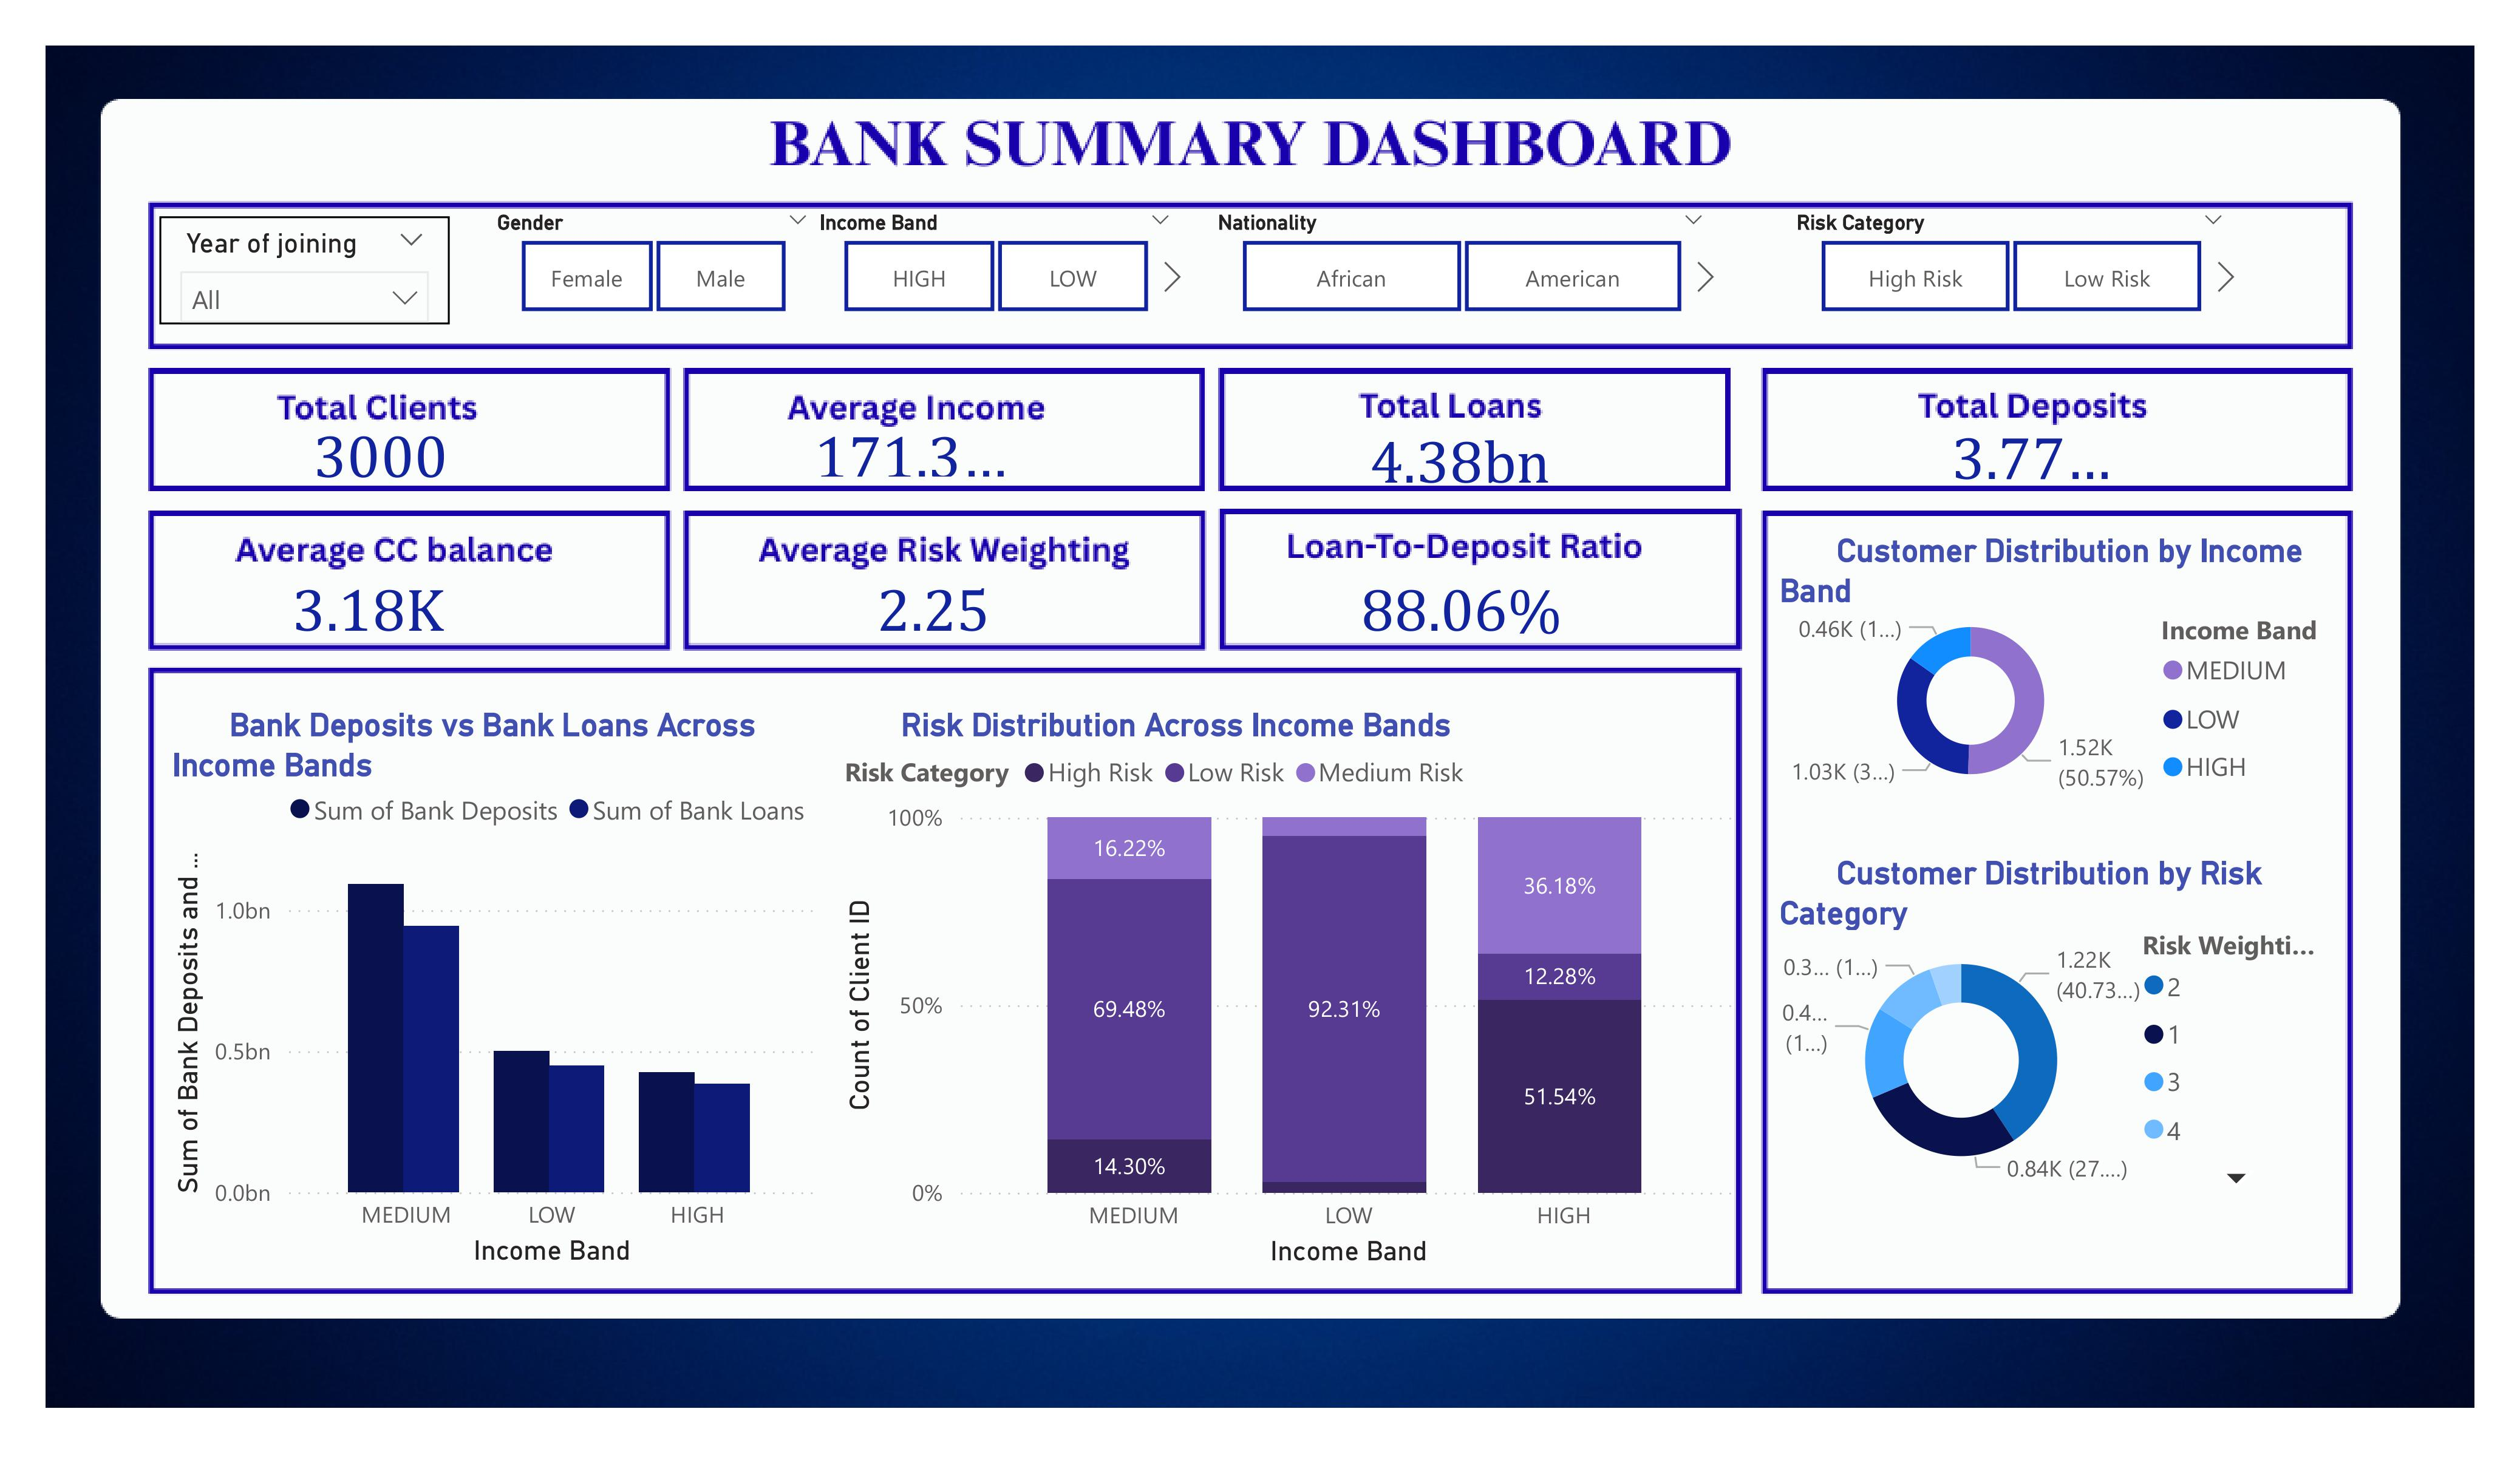

This screenshot's page, from the dashboard's own definition file:
{"tool":"powerbi","page":{"name":"Summary","canvas":[1280,720],"ordinal":3},"visuals":[{"type":"slicer","fields":{"Values":["banking_case customer.Year of joining"]},"box":[60.5,89.6,152.3,57.1],"z":0},{"type":"slicer","fields":{"Values":["banking_case customer.Gender"]},"box":[225.5,81.9,188.4,64.9],"z":1},{"type":"slicer","fields":{"Values":["banking_case customer.Income Band"]},"box":[395.4,81.9,210,64.9],"z":2},{"type":"slicer","fields":{"Values":["banking_case customer.Nationality"]},"box":[605.4,81.9,281.1,64.9],"z":3},{"type":"slicer","fields":{"Values":["banking_case customer.Risk Category"]},"box":[909.7,81.9,250.2,64.9],"z":4},{"type":"card","fields":{"Values":["CountNonNull(banking_case customer.Name)"]},"box":[116.9,196.5,119.4,38.5],"z":5},{"type":"card","fields":{"Values":["banking_case customer.Avg Income"]},"box":[395.5,200.3,120.7,32.1],"z":6},{"type":"card","fields":{"Values":["banking_case customer.Total deposit"]},"box":[993.9,197.8,105.3,37.2],"z":7},{"type":"card","fields":{"Values":["banking_case customer.Total loan"]},"box":[692.1,197.8,106.6,41.1],"z":8},{"type":"card","fields":{"Values":["banking_case customer.Average Risk"]},"box":[414.8,276.1,106.6,41.1],"z":9},{"type":"card","fields":{"Values":["banking_case customer.Average CC Balance"]},"box":[116.9,276.1,106.6,41.1],"z":10},{"type":"card","fields":{"Values":["banking_case customer.Loan Deposit Ratio"]},"box":[683.1,276.1,125.8,41.1],"z":11},{"type":"donutChart","title":"📊 Customer Distribution by Income Band","fields":{"Category":["banking_case customer.Income Band"],"Y":["CountNonNull(banking_case customer.Client ID)"]},"box":[909.2,251.7,310.8,149],"z":12},{"type":"donutChart","title":"📊 Customer Distribution by Risk Category","fields":{"Category":["banking_case customer.Risk Weighting"],"Y":["CountNonNull(banking_case customer.Client ID)"]},"box":[909.2,422.5,297.9,187.5],"z":13},{"type":"clusteredColumnChart","title":"📊 Bank Deposits vs Bank Loans Across Income Bands","fields":{"Category":["banking_case customer.Income Band"],"Y":["Sum(banking_case customer.Bank Deposits)","Sum(banking_case customer.Bank Loans)"]},"box":[61.6,344.1,348,304.3],"z":14},{"type":"hundredPercentStackedColumnChart","title":"📊 Risk Distribution Across Income Bands","fields":{"Category":["banking_case customer.Income Band"],"Series":["banking_case customer.Risk Category"],"Y":["CountNonNull(banking_case customer.Client ID)"]},"box":[416.1,344.1,480.3,304.3],"z":15}]}

Visuals, with their boxes on the page's 1280x720 design canvas (x1, y1, x2, y2). These are canvas units, not pixel positions in the 2520x1457 screenshot, which may show the page scaled, cropped or inside an application window:
slicer - banking_case customer.Year of joining: (60, 90, 213, 147)
slicer - banking_case customer.Gender: (226, 82, 414, 147)
slicer - banking_case customer.Income Band: (395, 82, 605, 147)
slicer - banking_case customer.Nationality: (605, 82, 886, 147)
slicer - banking_case customer.Risk Category: (910, 82, 1160, 147)
card - CountNonNull(banking_case customer.Name): (117, 196, 236, 235)
card - banking_case customer.Avg Income: (396, 200, 516, 232)
card - banking_case customer.Total deposit: (994, 198, 1099, 235)
card - banking_case customer.Total loan: (692, 198, 799, 239)
card - banking_case customer.Average Risk: (415, 276, 521, 317)
card - banking_case customer.Average CC Balance: (117, 276, 224, 317)
card - banking_case customer.Loan Deposit Ratio: (683, 276, 809, 317)
"📊 Customer Distribution by Income Band" donutChart: (909, 252, 1220, 401)
"📊 Customer Distribution by Risk Category" donutChart: (909, 422, 1207, 610)
"📊 Bank Deposits vs Bank Loans Across Income Bands" clusteredColumnChart: (62, 344, 410, 648)
"📊 Risk Distribution Across Income Bands" hundredPercentStackedColumnChart: (416, 344, 896, 648)
